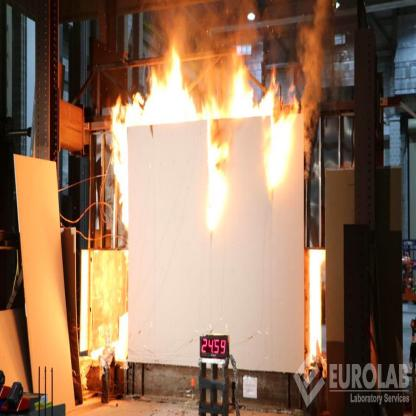fire: (92, 39, 299, 364)
smoke: (152, 0, 332, 171)
